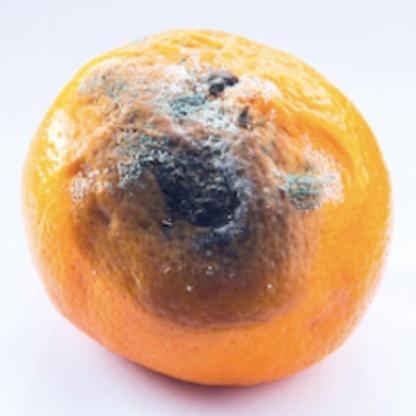rotten: (26, 29, 389, 392)
